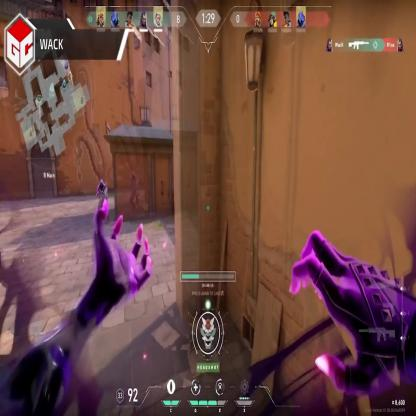enemy: (96, 178, 109, 220)
enemy_head: (99, 180, 104, 190)
